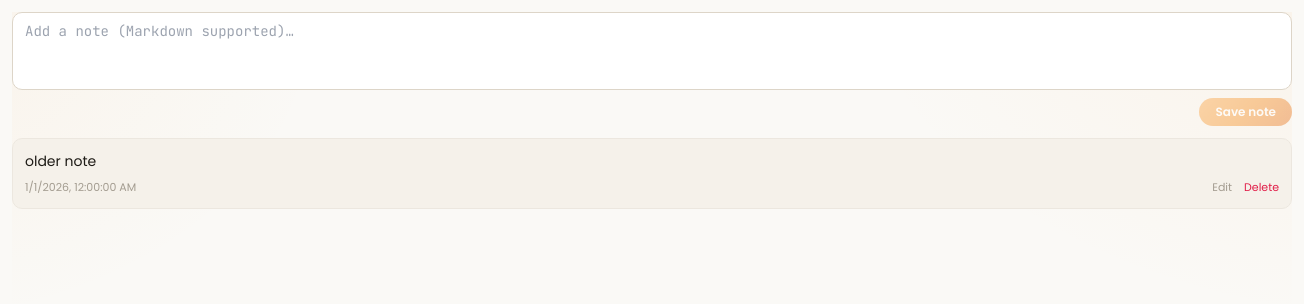
Test: NotesThread — adding › prepends the new note and clears the draft
Expected: the text "older note" is shown, [25, 151, 96, 171]
Type "newest note" into the text box.
click(652, 51); type("newest note")  # box [12, 12, 1292, 90]
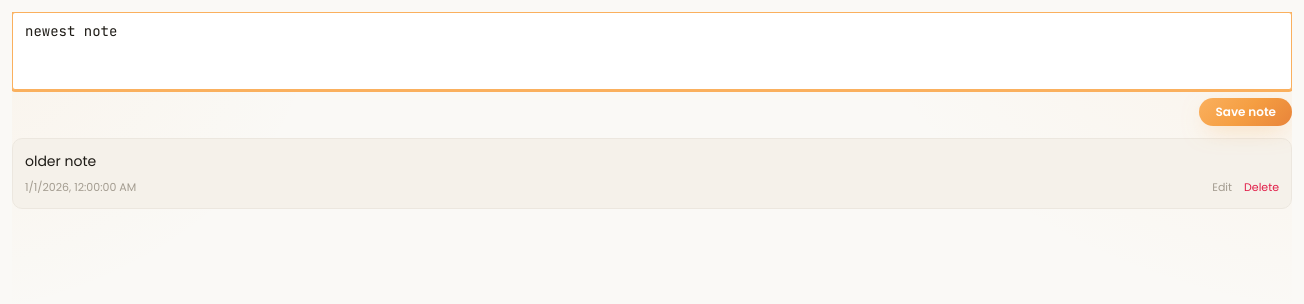
Click the button "Save note".
click(1246, 112)  # box [1200, 98, 1292, 126]
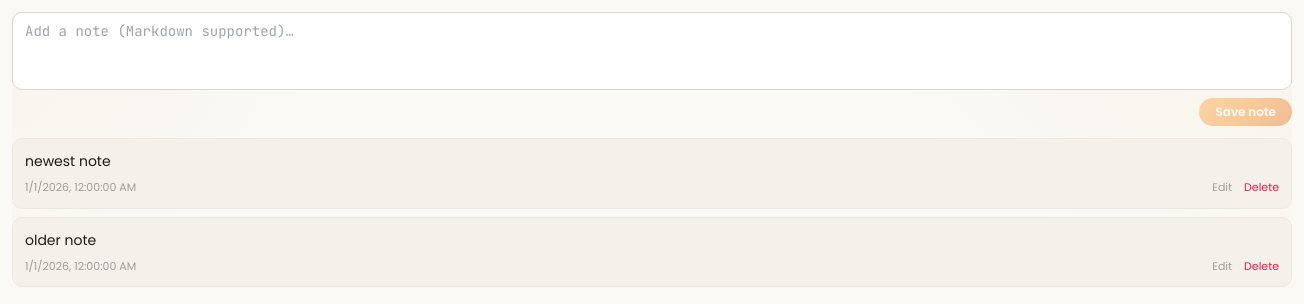
Expected: the text "newest note" is shown, [25, 151, 111, 171]
Expected: the list item "newest note 1/1/2026, 12:00:00 AM Edit Delete" is shown, [12, 138, 1292, 208]
Expected: the text box is empty, [12, 12, 1292, 90]
